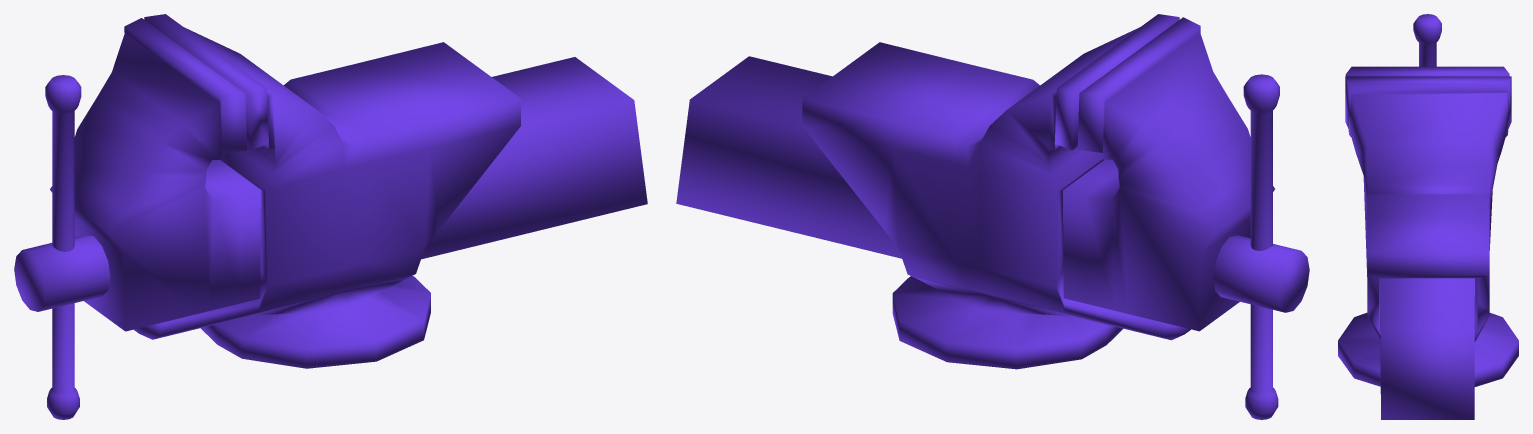
The model's file is SChraubstock_27112019_lowpoly.fbx.
3 views of the same model, side by side, from view 1: azimuth 30°, elevation 25°; view 2: azimuth 150°, elevation 25°; view 3: azimuth 270°, elevation 25° (orthographic). The views are drawn at different scales.
Parts seen in each view (by area): view 1: Cube.001, Cube, Cylinder.001, Cylinder; view 2: Cube.001, Cube, Cylinder.001, Cylinder; view 3: Cube.001, Cube, Cylinder.001.
Part boxes in pixels (left/top/right/bottom): Cube.001: left=134, top=14, right=520, bottom=368; Cube: left=50, top=18, right=647, bottom=331; Cylinder.001: left=45, top=75, right=81, bottom=419; Cylinder: left=14, top=234, right=110, bottom=311; Cube.001: left=802, top=14, right=1190, bottom=369; Cube: left=676, top=17, right=1274, bottom=331; Cylinder.001: left=1243, top=74, right=1279, bottom=419; Cylinder: left=1213, top=235, right=1309, bottom=312; Cube.001: left=1338, top=76, right=1518, bottom=386; Cube: left=1345, top=66, right=1509, bottom=419; Cylinder.001: left=1413, top=14, right=1441, bottom=66.
Bounding box in the file's own units: 487 × 265 × 164.
